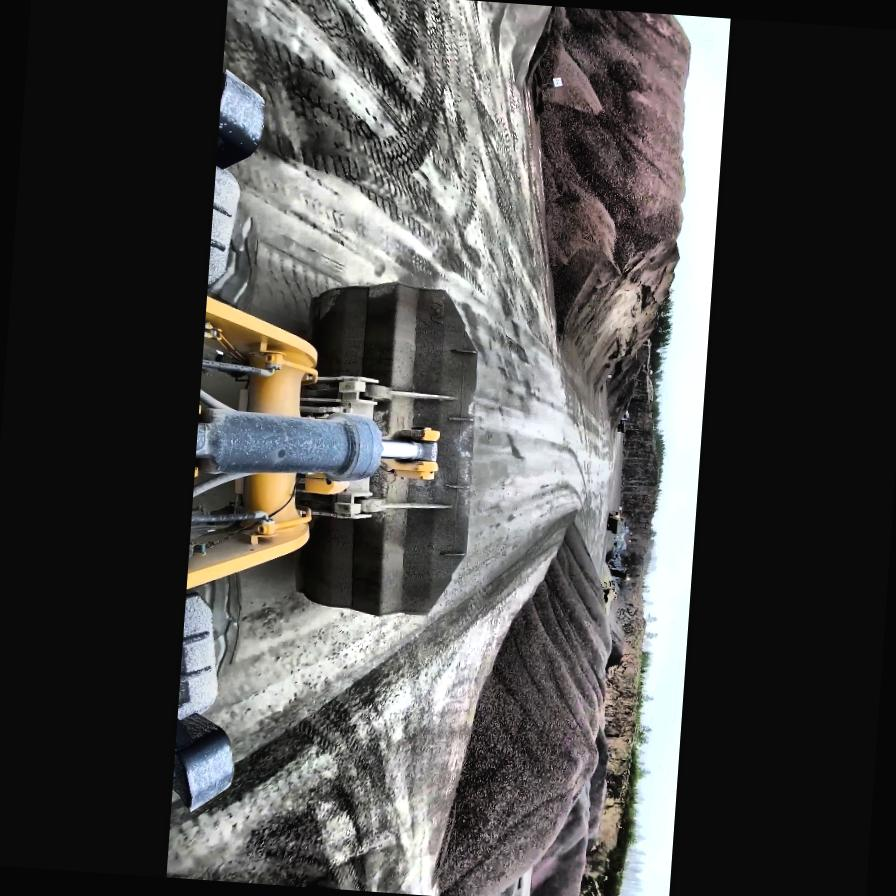anchor: (376, 426, 441, 480)
pile of gravel: (510, 5, 699, 406), (428, 512, 619, 896), (486, 2, 566, 99), (528, 783, 594, 896), (583, 724, 612, 852)
